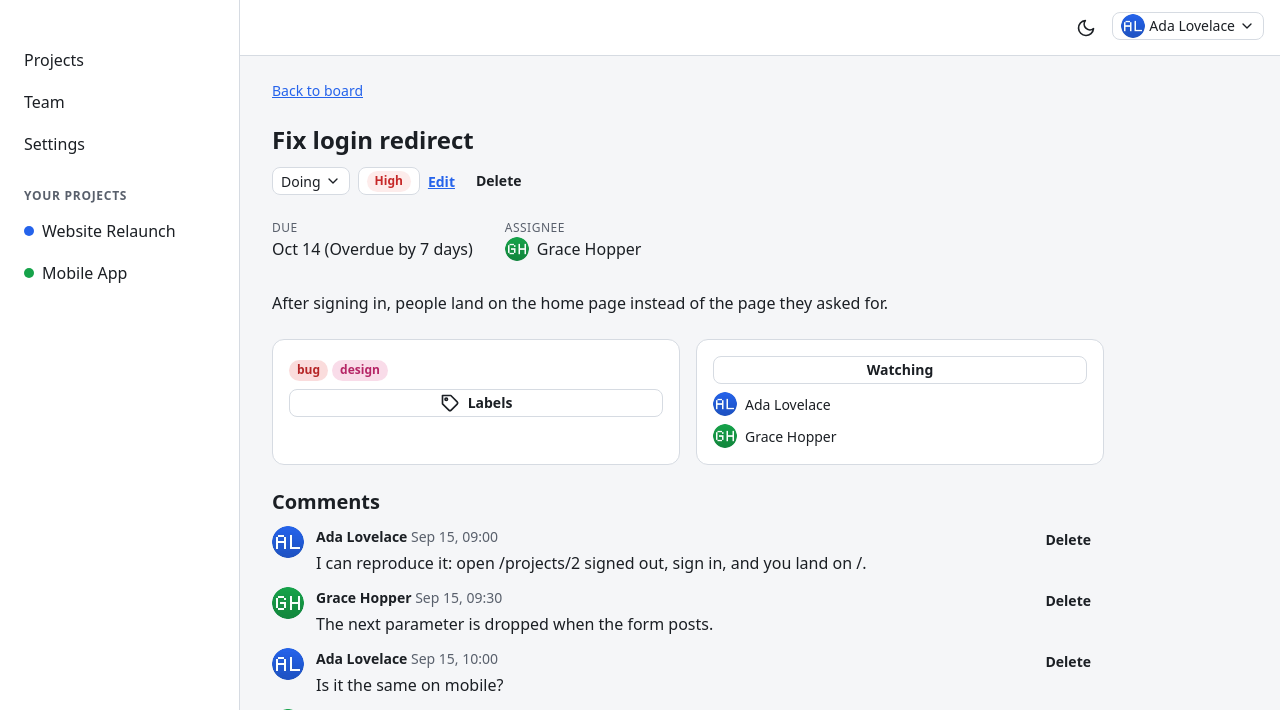
it: a failed toggle rolls back with a toast
Click the button "Labels": x=476, y=403 [289, 389, 663, 417]
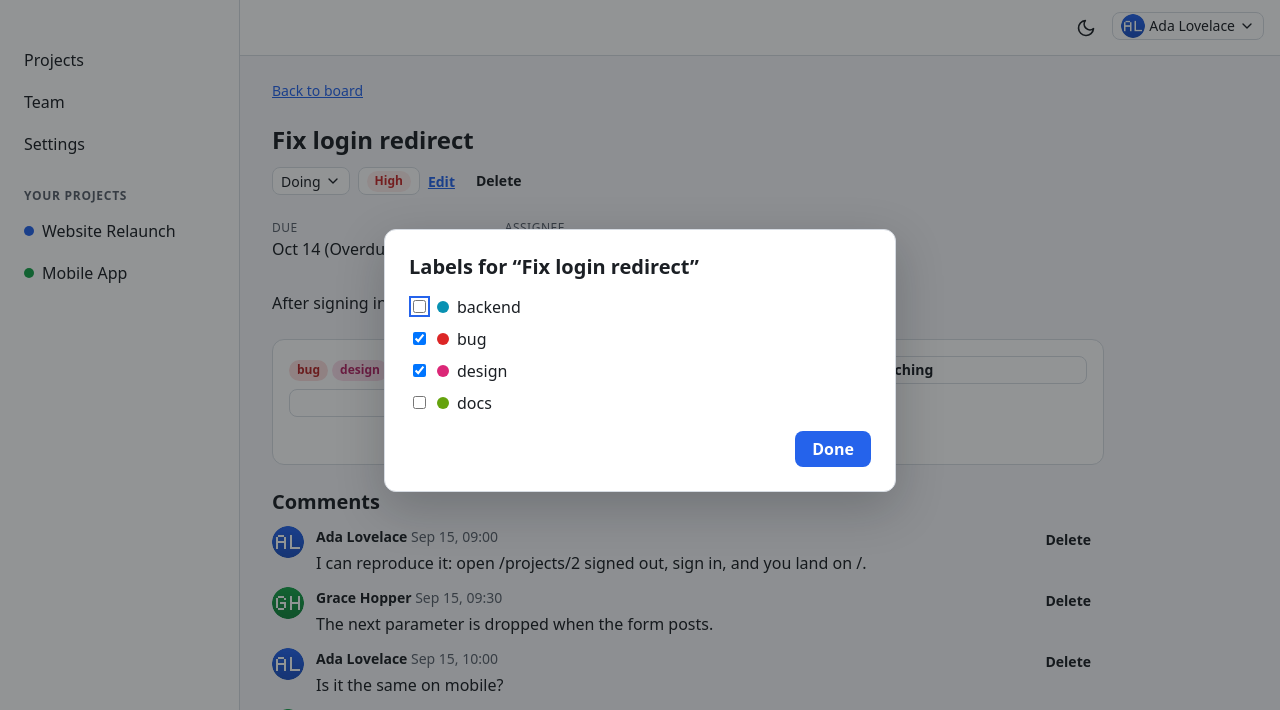
Click the checkbox labelled "bug": x=420, y=338 [413, 332, 426, 345]
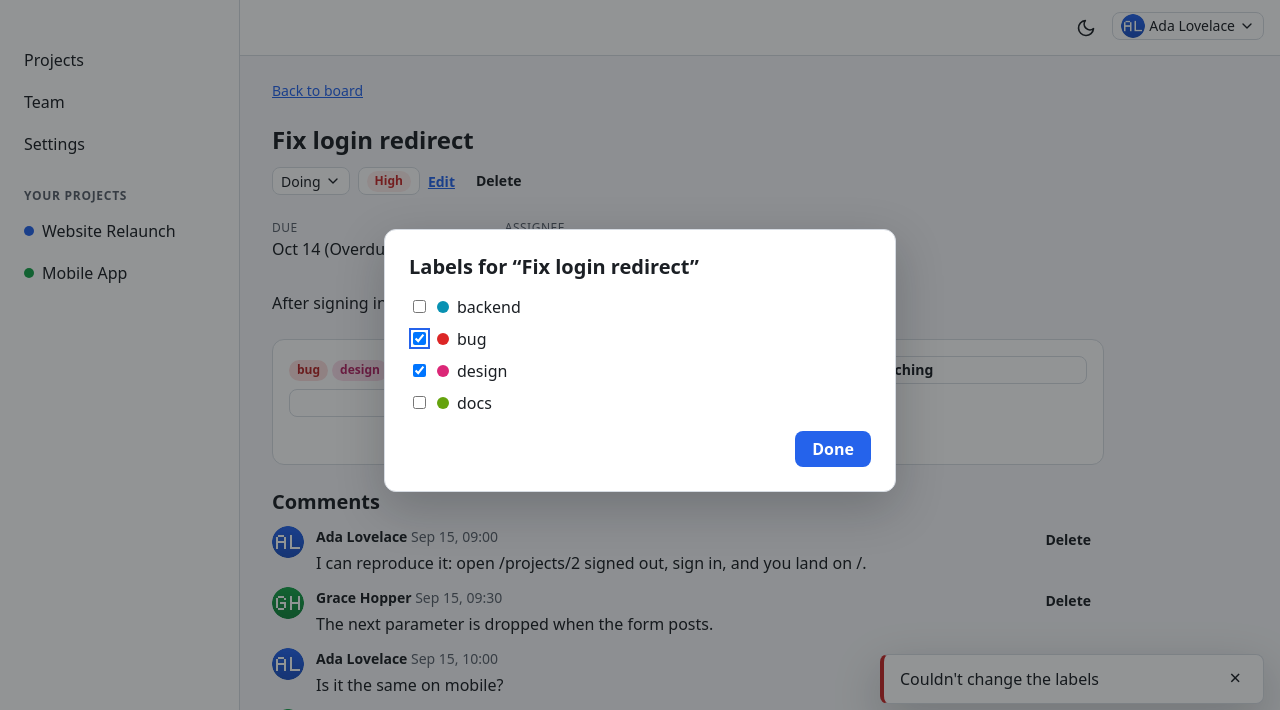
Now the text "Couldn't change the labels" is shown, box [900, 667, 1099, 691]
